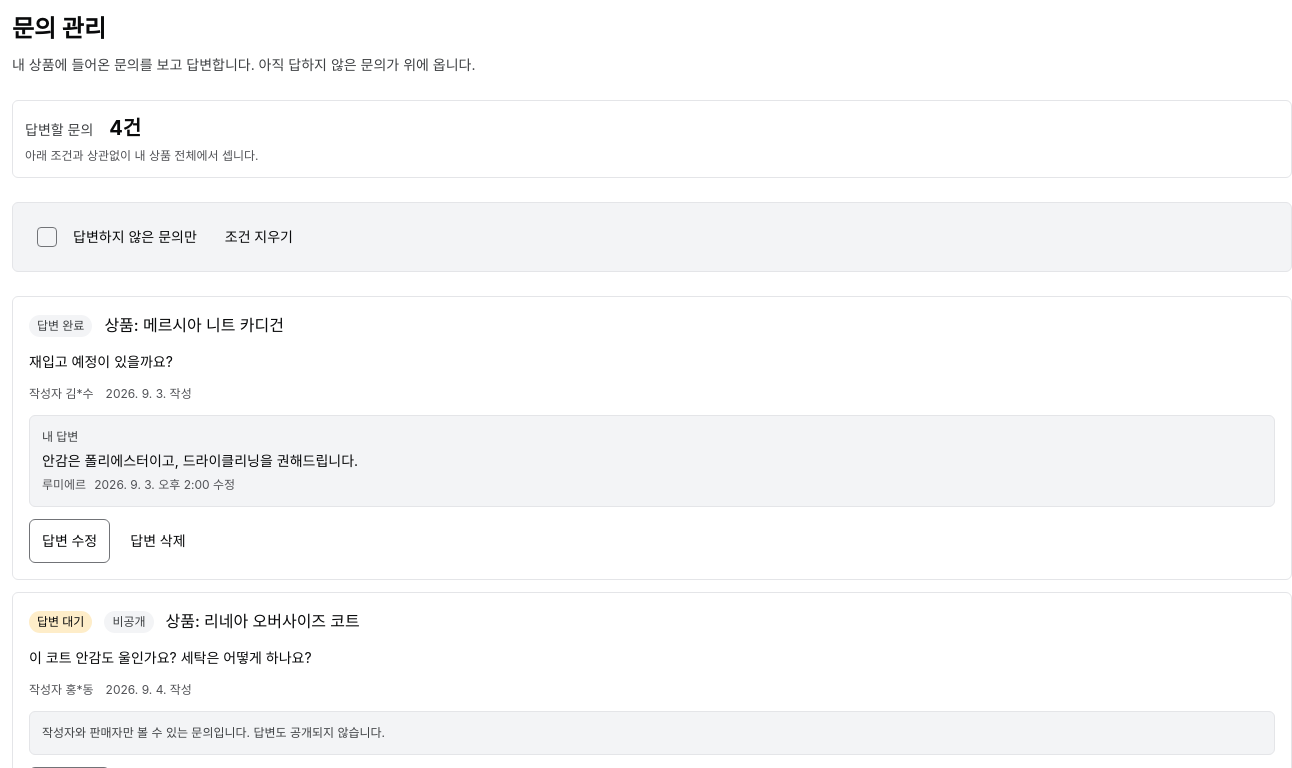
Scenario: 답변 고치기 (4.3) › starts from what is already there rather than from a blank box
Click the button "답변 수정" at (70, 541), box [29, 519, 110, 563]
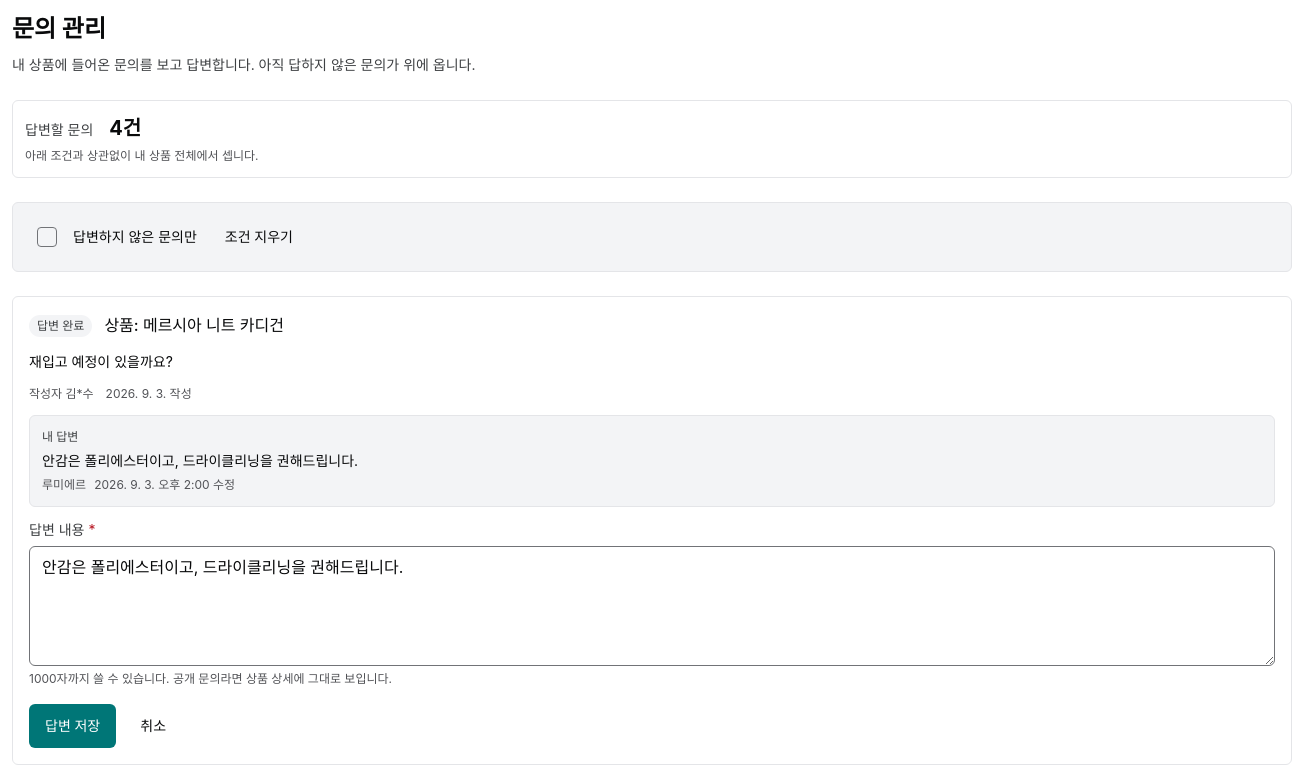
Check: the text box labelled "답변 내용" holds "안감은 폴리에스터이고, 드라이클리닝을 권해드립니다.", box [29, 546, 1275, 666]
